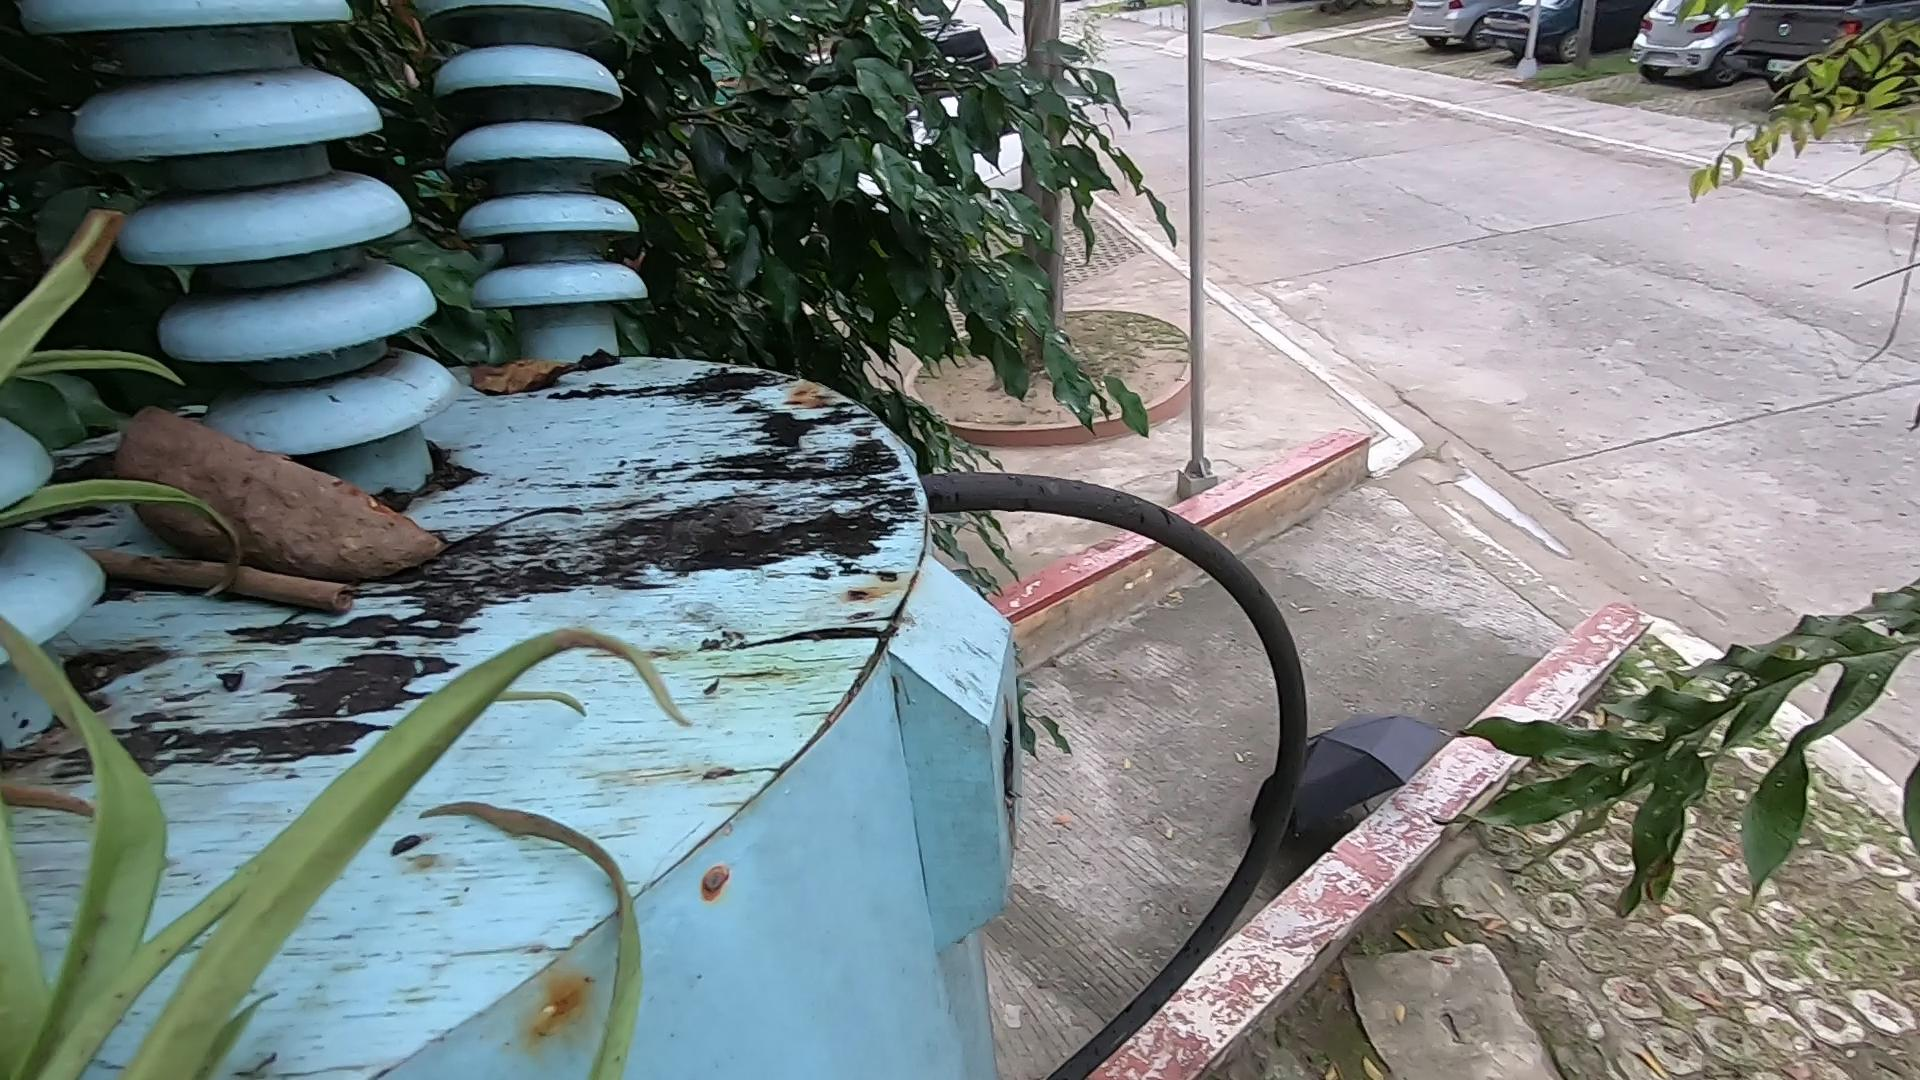leaf: (7, 630, 720, 1077), (472, 348, 688, 415)
mahogany fruit: (66, 384, 425, 601)
tree branch: (79, 531, 371, 628)
